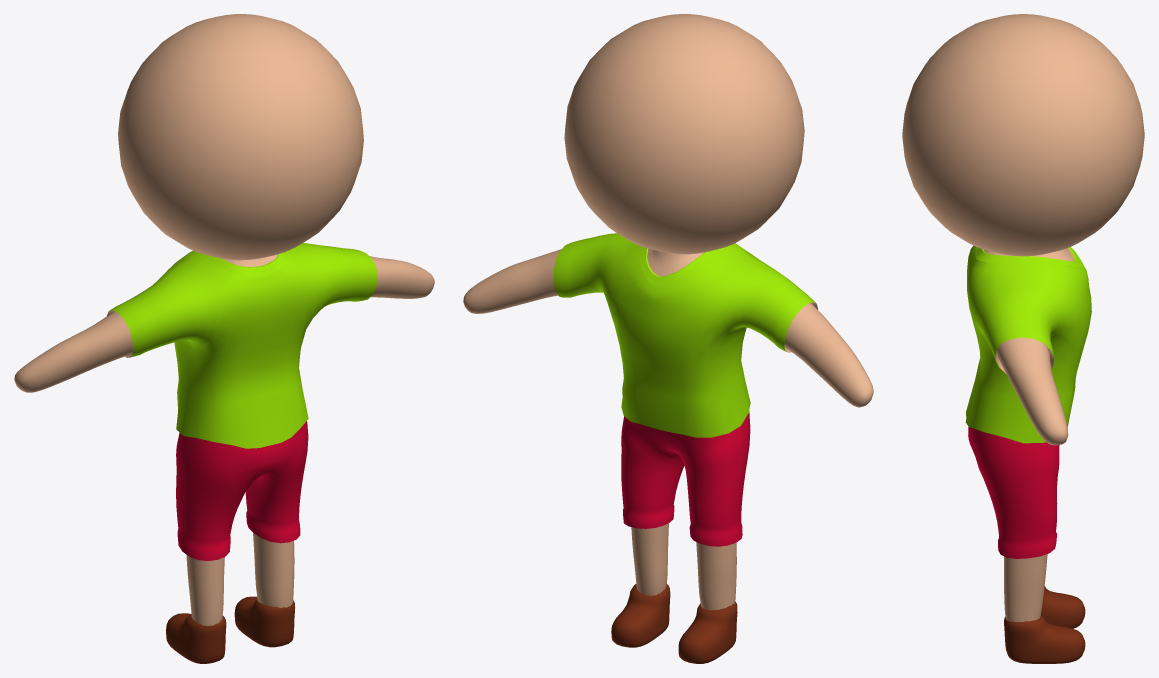
The model's file is character.fbx.
The picture shows the model from 3 angles, left to right: view 1: azimuth 30°, elevation 25°; view 2: azimuth 150°, elevation 25°; view 3: azimuth 270°, elevation 25°; orthographic projection. The views are drawn at different scales.
Parts seen in each view (by area): view 1: Cube.003; view 2: Cube.003; view 3: Cube.003.
Boxes of the visible parts, left/top/right/bottom form: Cube.003: left=14, top=14, right=434, bottom=663; Cube.003: left=463, top=14, right=873, bottom=663; Cube.003: left=902, top=14, right=1144, bottom=663.
Bounding box in the file's own units: 191 × 276 × 98.35.
